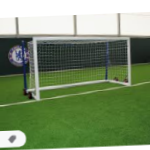goals: (27, 36, 133, 100)
